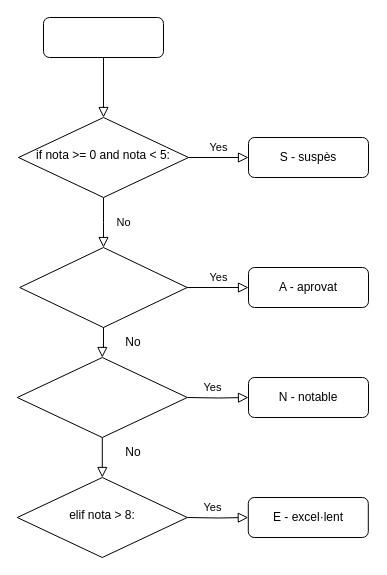
The diagram is 387 pixels wide and 575 high, and some of its shapes have lost their labels. Here are the shapes that lost their labels. From the top down, the box of each, then its label:
(42, 16, 164, 58): Asignar nota
(19, 246, 187, 328): elif nota >= 5 and nota <= 6.5:
(16, 356, 187, 438): elif nota > 6.5 and nota <= 8:
